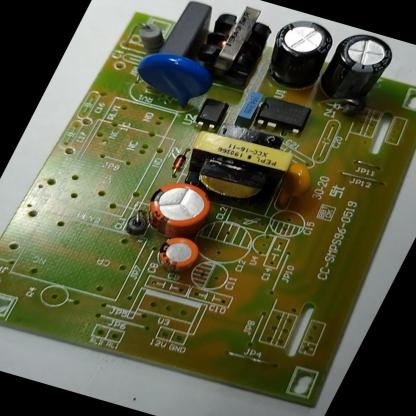Cap1: (136, 176, 220, 243)
Cap2: (149, 233, 206, 278)
Cap3: (254, 14, 343, 94)
Cap4: (314, 29, 401, 107)
MOSFET: (250, 92, 316, 136)
Mov: (126, 47, 222, 108)
Resistor: (129, 18, 171, 53)
Transformer: (170, 115, 304, 214), (188, 0, 281, 85)
